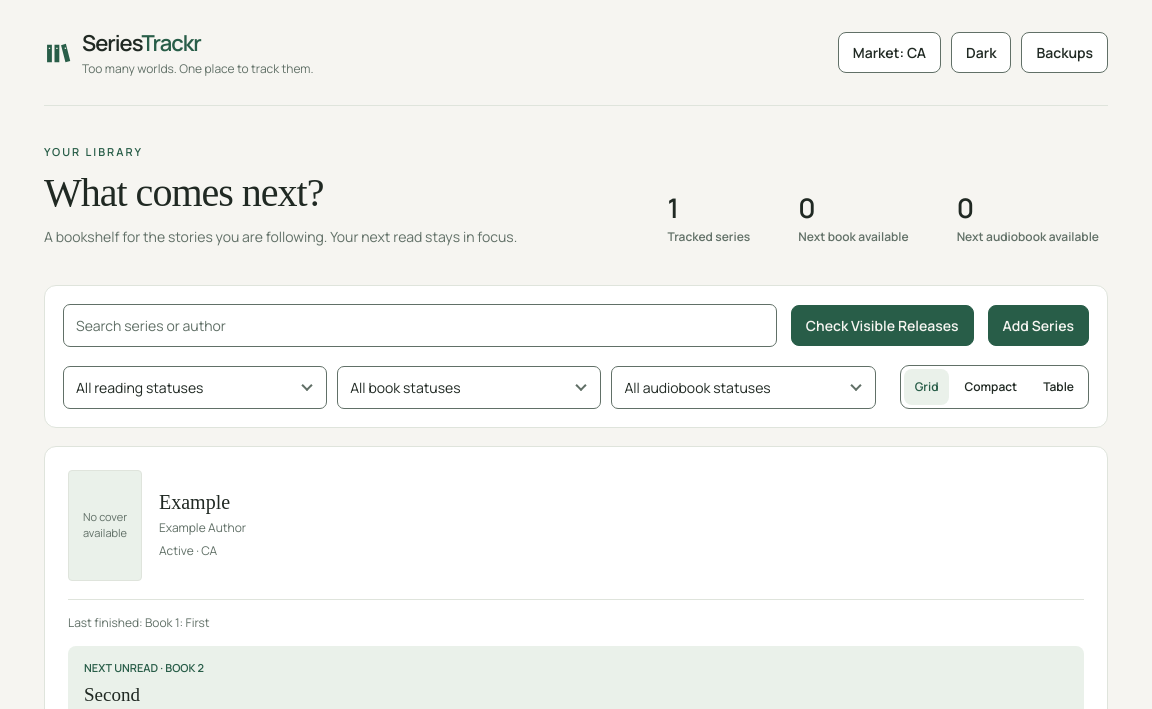
Test: a stale export error is cleared once the library leaves unsaved mode
The image size is (1152, 709).
Click the button "Dark": (981, 52) top-left (951, 32), bottom-right (1012, 73)
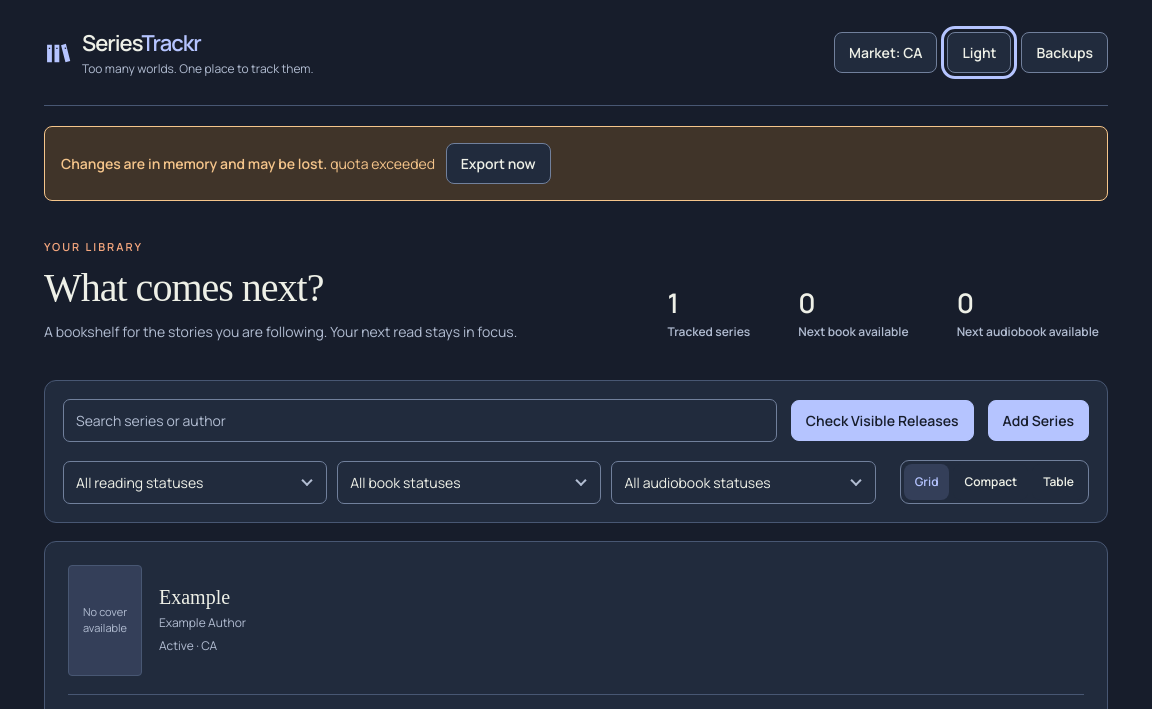
Click the button "Export now": (498, 164) top-left (446, 143), bottom-right (551, 184)
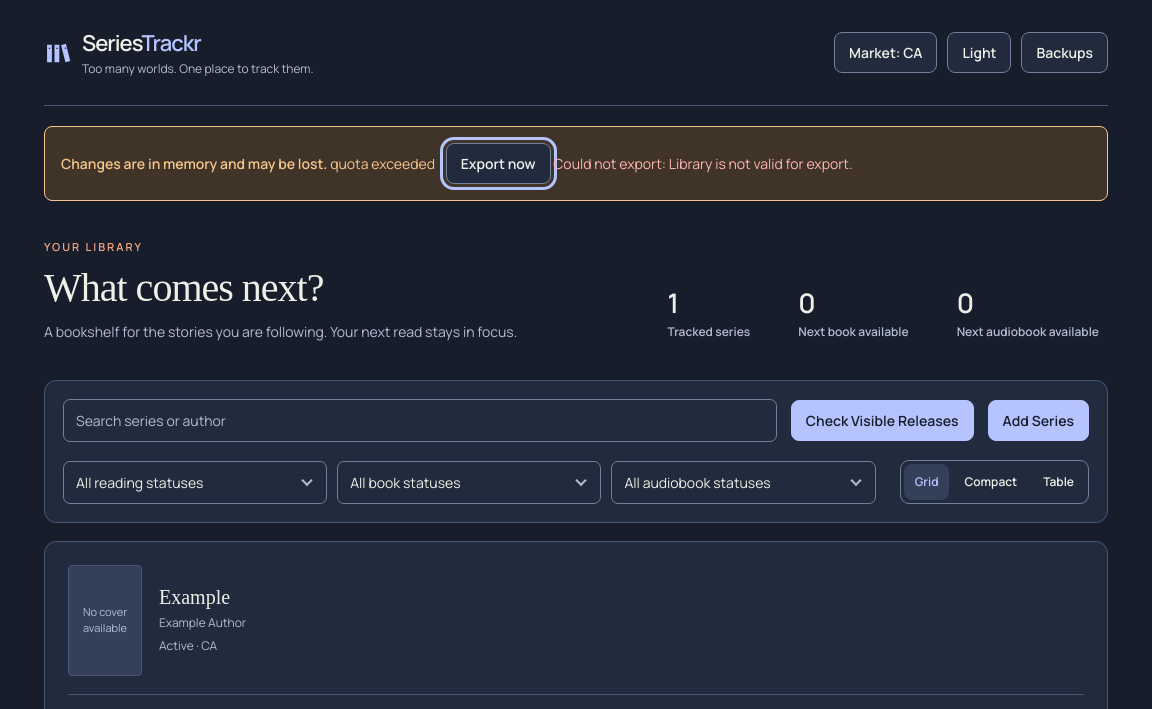
Check: the text "Could not export: Library is not valid for export." is shown, box top-left (550, 154), bottom-right (852, 173)
Click the button "Light": (979, 52) top-left (947, 32), bottom-right (1012, 73)
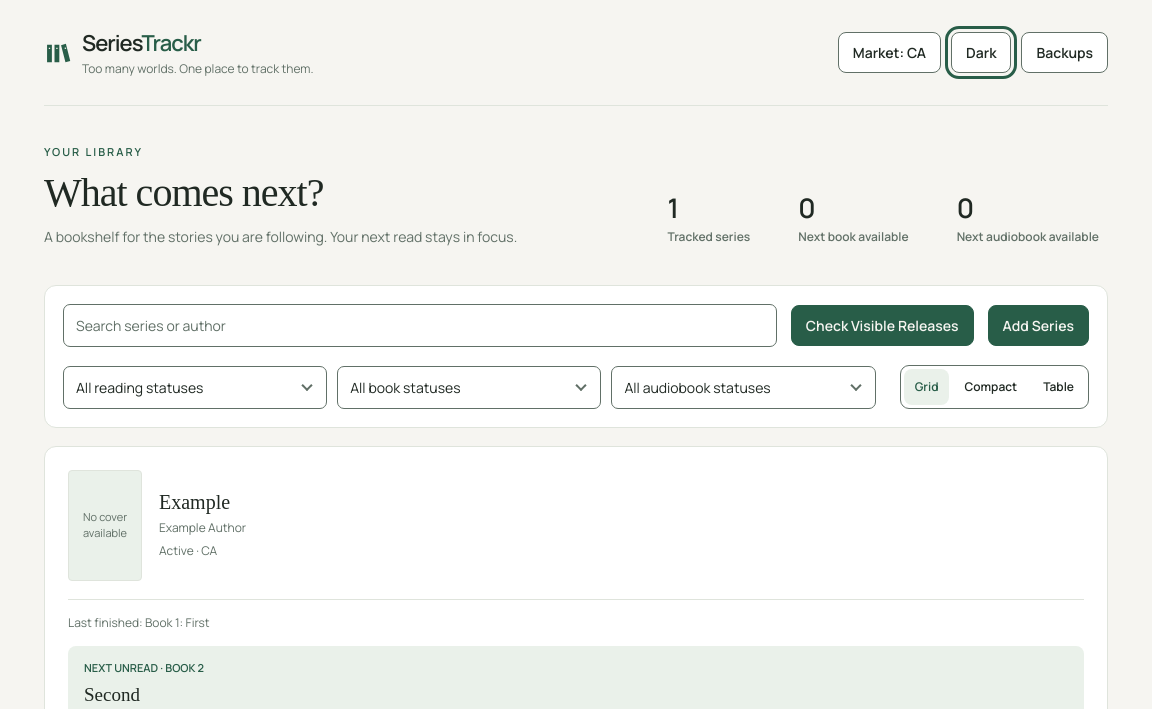
Check: the button "Export now" is gone
Click the button "Dark": (981, 52) top-left (951, 32), bottom-right (1012, 73)
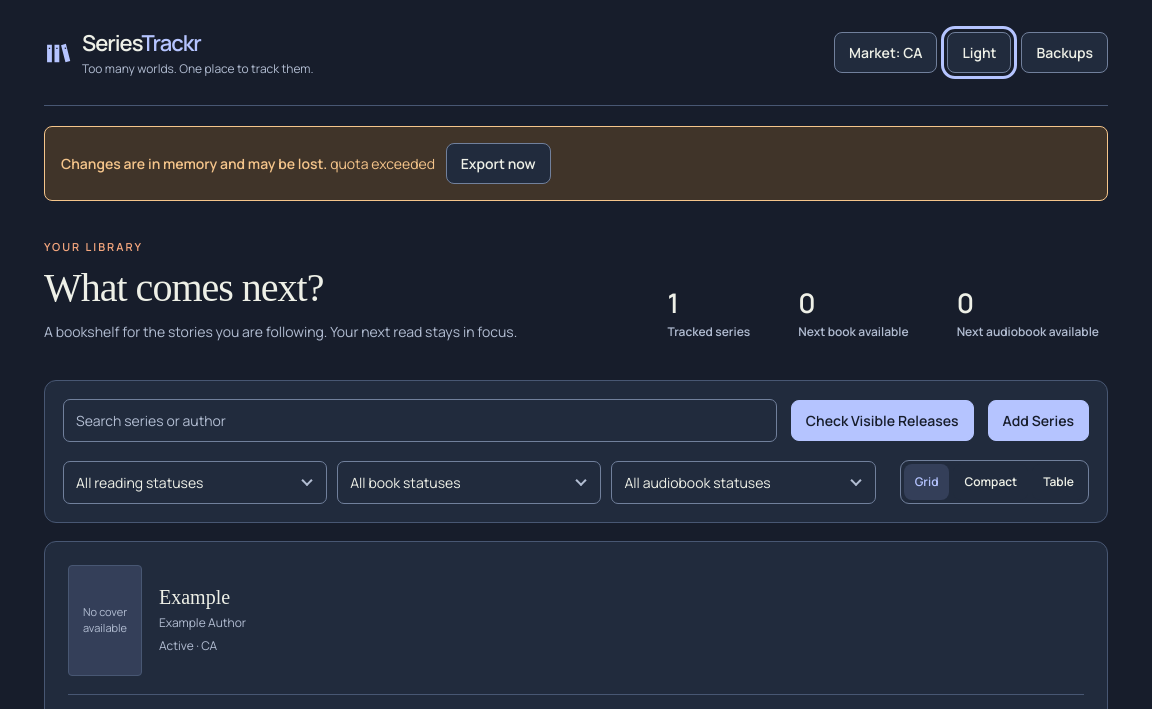
Check: the text "Could not export" is not shown
Check: the button "Export now" is shown, box top-left (446, 143), bottom-right (551, 184)
